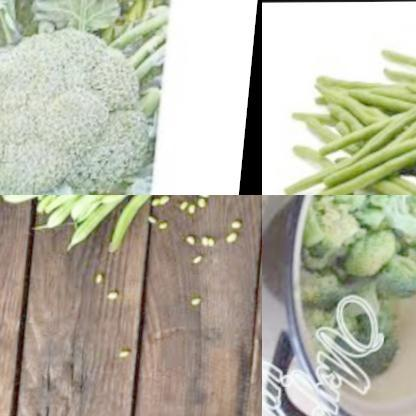beans: (272, 42, 416, 195), (0, 195, 253, 251), (178, 195, 213, 215), (184, 233, 220, 249), (150, 216, 177, 231), (189, 295, 213, 309), (188, 255, 213, 266), (118, 347, 137, 361), (223, 230, 240, 245), (153, 196, 172, 208), (96, 268, 107, 288), (110, 292, 122, 306), (229, 219, 242, 230)
broccoli: (0, 2, 180, 195), (283, 195, 416, 323)
